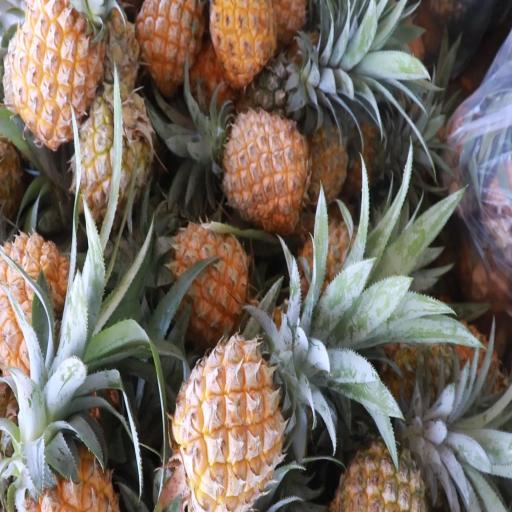------------------------------: (72, 84, 150, 222), (331, 427, 426, 512)
Pineapple - v8 v1: (172, 333, 286, 512), (2, 232, 81, 402), (11, 0, 102, 143), (6, 397, 113, 512), (222, 112, 308, 224), (166, 224, 249, 336), (209, 0, 277, 84), (137, 0, 205, 83)
